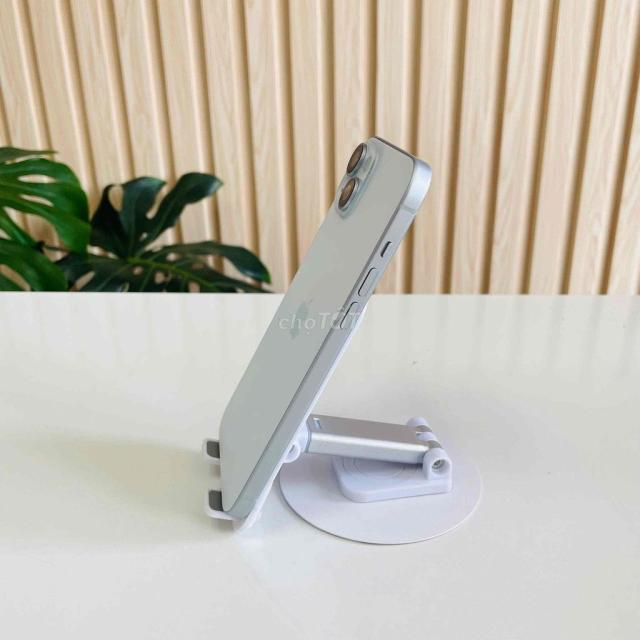gen_15: (186, 123, 443, 533)
